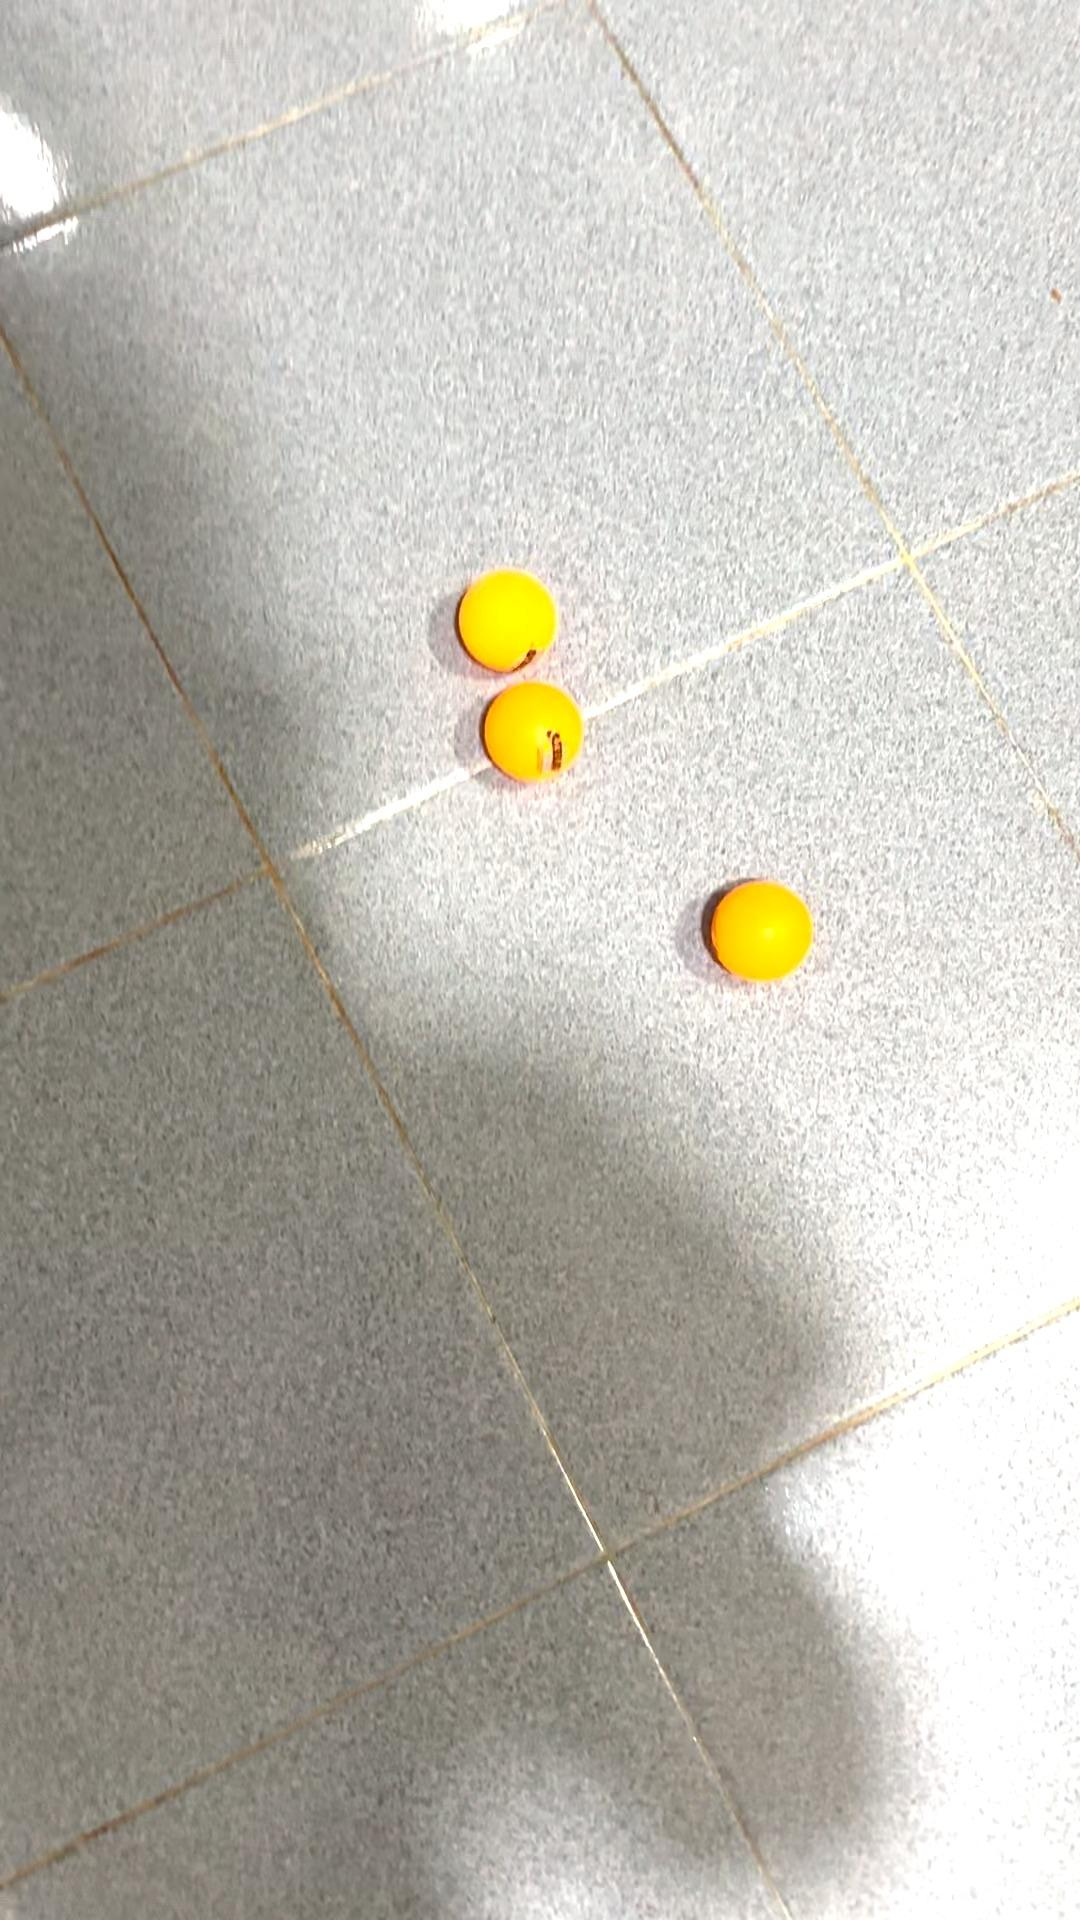oball: (450, 563, 564, 678), (473, 680, 595, 785), (702, 878, 818, 986), (475, 678, 488, 704)
